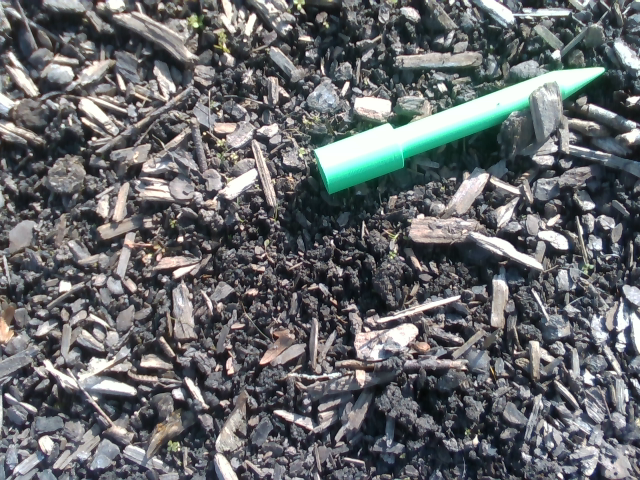Probe: (306, 55, 613, 203)
